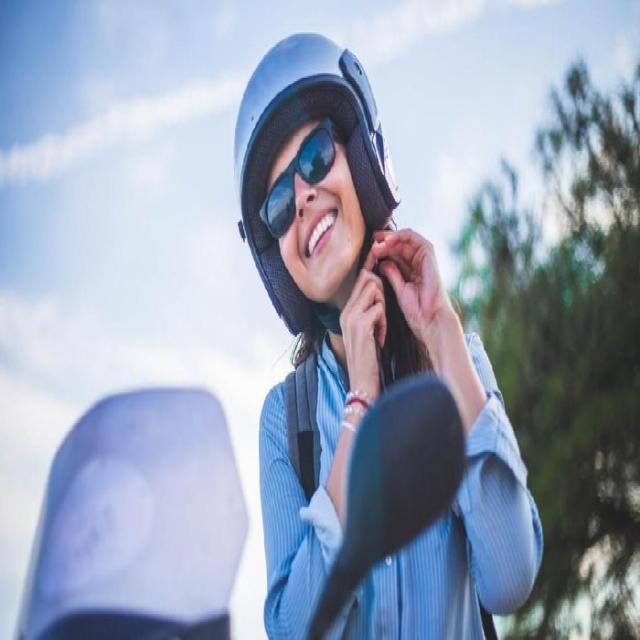Helm: (230, 28, 406, 336)
